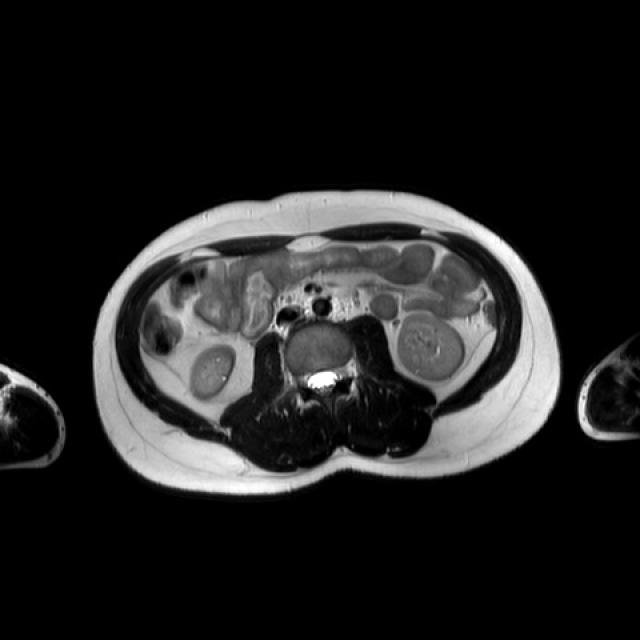sag: (192, 347, 236, 396)
sol: (396, 311, 464, 377)
